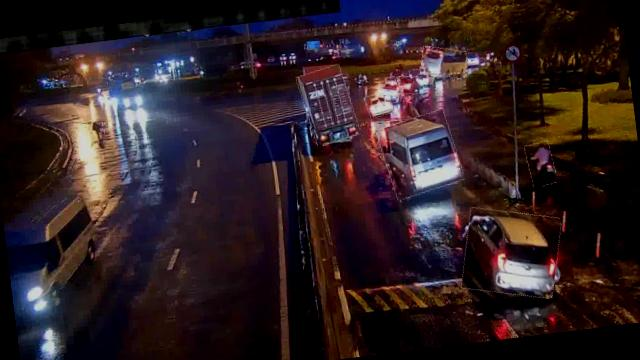Bike: (525, 141, 556, 187), (90, 120, 106, 146)
Bus: (377, 109, 462, 197), (418, 44, 469, 80)
Car: (457, 202, 566, 304), (363, 91, 392, 118), (378, 80, 407, 103), (394, 74, 424, 96), (407, 67, 433, 87)
Truck: (298, 63, 358, 146)
